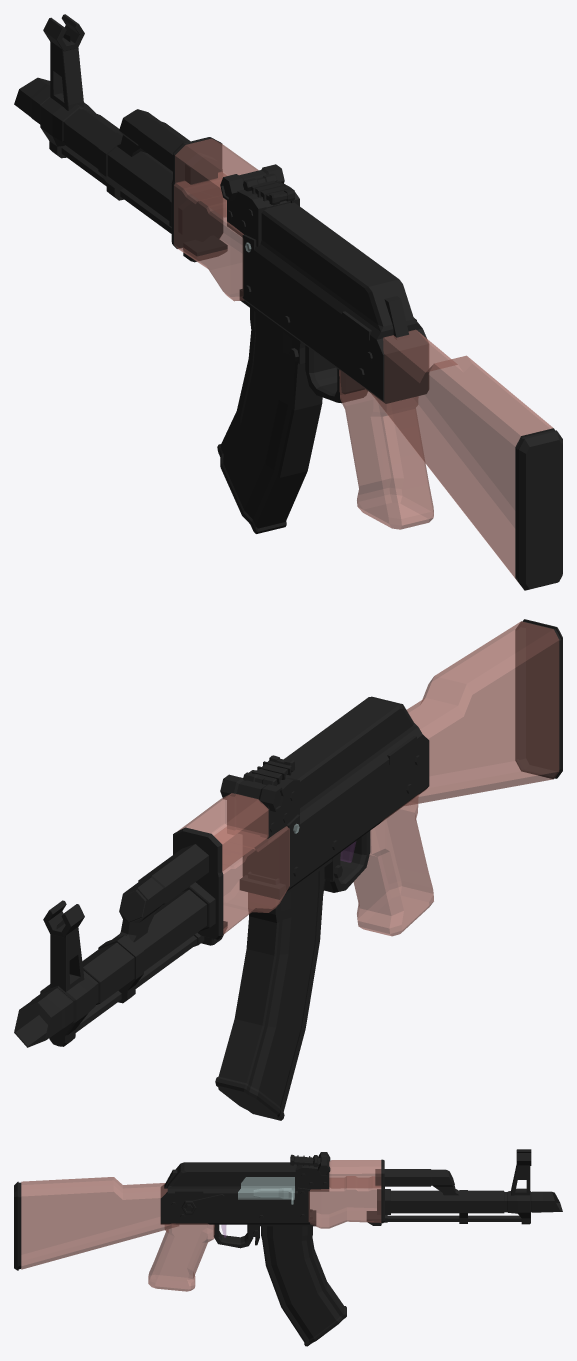
Rendered from AKShooter.fbx.
3 views of the same model, one above another, from view 1: azimuth 30°, elevation 25°; view 2: azimuth 150°, elevation 25°; view 3: azimuth 270°, elevation 25° (orthographic). The views are drawn at different scales.
Visible parts, largest first — view 1: Cube.024; view 2: Cube.024; view 3: Cube.024.
Part boxes in pixels (box(x1,y1,x2,y2)): Cube.024: box(14, 14, 562, 590); Cube.024: box(14, 619, 562, 1120); Cube.024: box(14, 1149, 562, 1346).
Size of the model in its own units: 200 by 863 by 2248.
